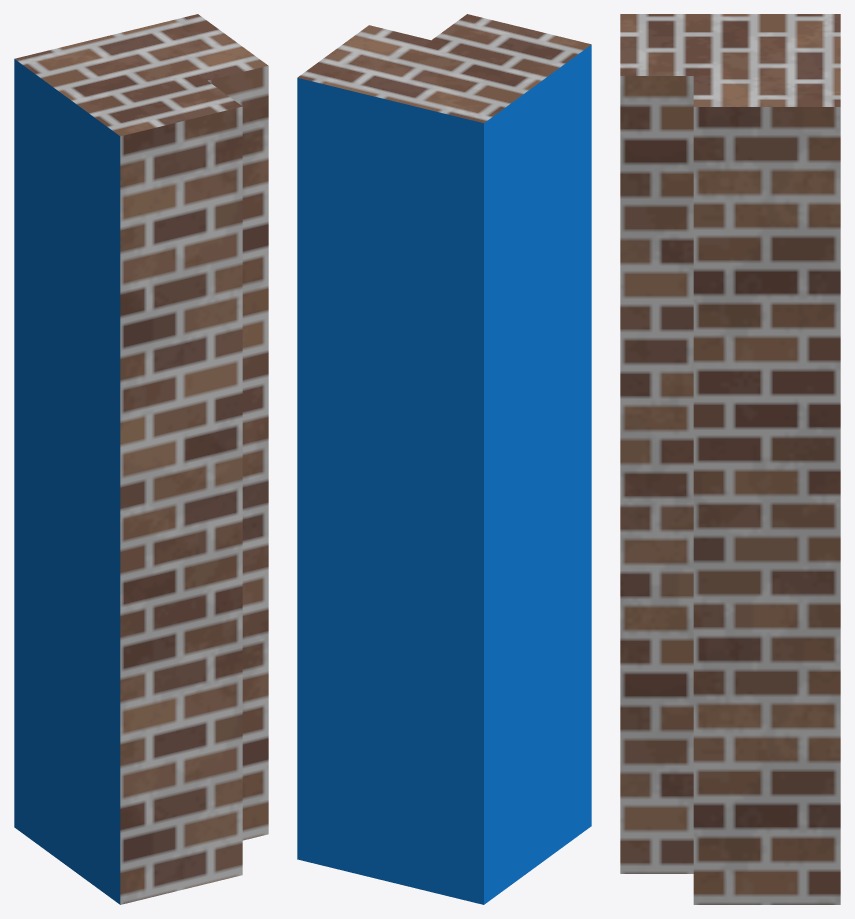
Rendered from Corner_Wall_005.FBX.
3 renders of one model, left to right at view 1: azimuth 30°, elevation 25°; view 2: azimuth 150°, elevation 25°; view 3: azimuth 270°, elevation 25°, orthographic. The views are drawn at different scales.
Visible parts, largest first — view 1: Corner_Wall_005; view 2: Corner_Wall_005; view 3: Corner_Wall_005.
Boxes of the visible parts, left/top/right/bottom form: Corner_Wall_005: left=14, top=14, right=268, bottom=904; Corner_Wall_005: left=297, top=14, right=591, bottom=904; Corner_Wall_005: left=620, top=14, right=840, bottom=904.
Bounding box in the file's own units: 75 × 75 × 300.
